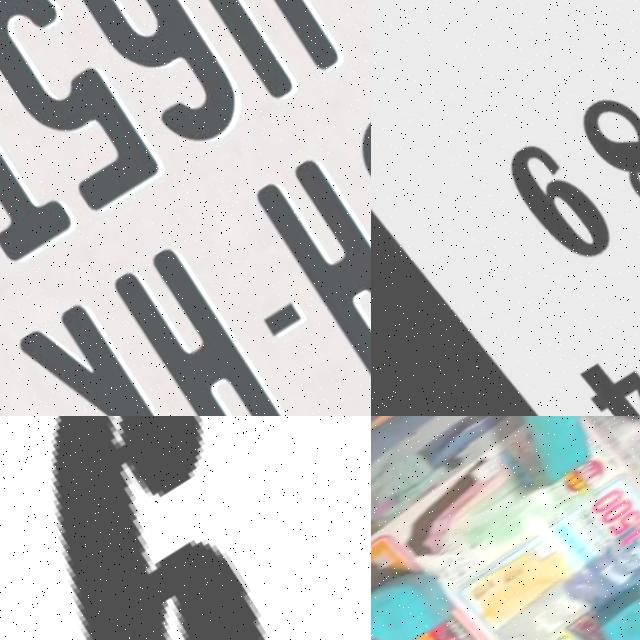4: (553, 329, 640, 416)
5: (0, 0, 163, 218)
6: (41, 0, 256, 162), (333, 90, 371, 346)
8: (552, 71, 640, 255)
9: (0, 416, 371, 640), (470, 109, 635, 299)
H: (101, 239, 298, 416), (244, 159, 371, 405)
K: (2, 294, 208, 416)
T: (0, 20, 74, 270)
U: (135, 0, 342, 104)
V: (451, 416, 640, 486)
